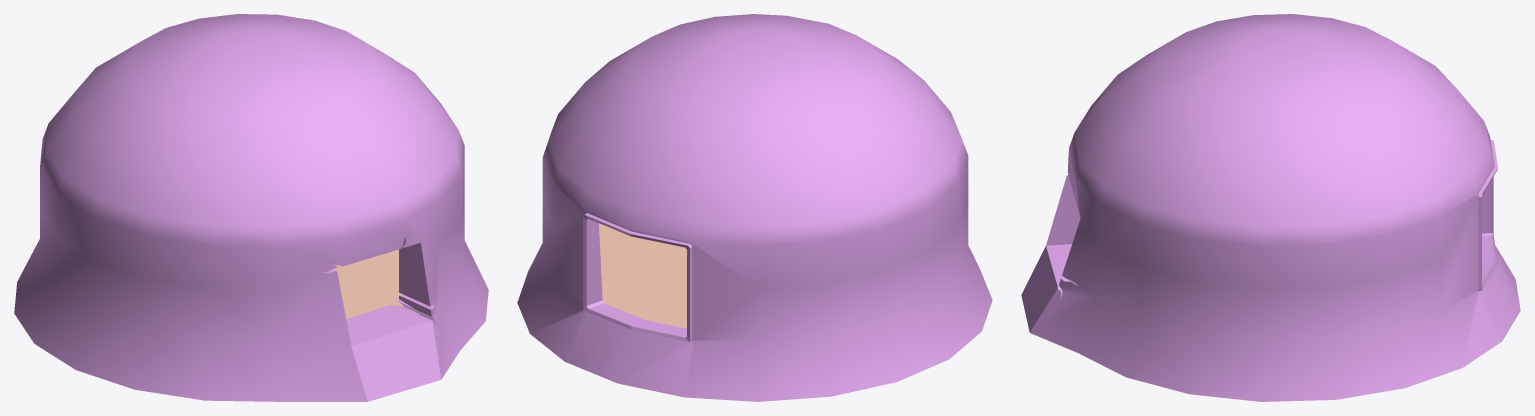
Rendered from Babyhouse1.fbx.
3 views of the same model, side by side, from view 1: azimuth 30°, elevation 25°; view 2: azimuth 150°, elevation 25°; view 3: azimuth 270°, elevation 25° (orthographic).
Parts seen in each view (by area): view 1: Baby_House; view 2: Baby_House; view 3: Baby_House.
Boxes of the visible parts, <box> form: Baby_House: <box>14,14,488,401</box>; Baby_House: <box>517,14,992,401</box>; Baby_House: <box>1021,14,1520,401</box>.
Bounding box in the file's own units: 36.53 × 21.84 × 38.4.
